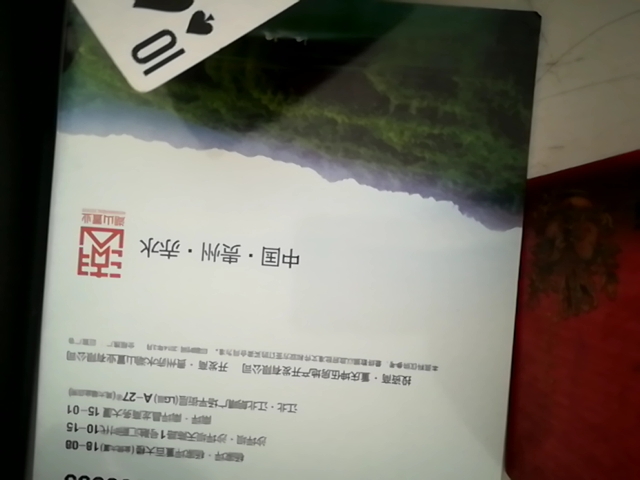ht 10: (31, 0, 477, 99)
